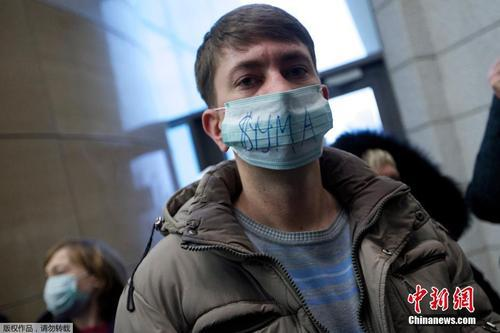mask: (207, 83, 333, 171)
